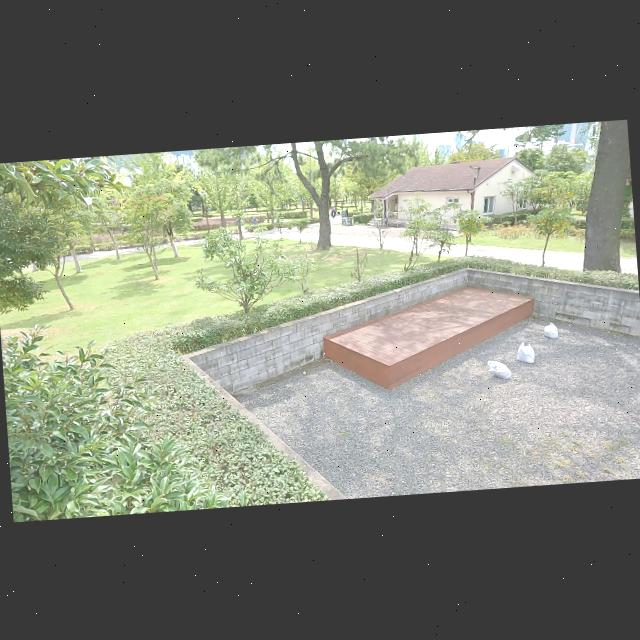trash: (485, 356, 511, 381), (516, 339, 536, 364), (542, 320, 558, 338)
